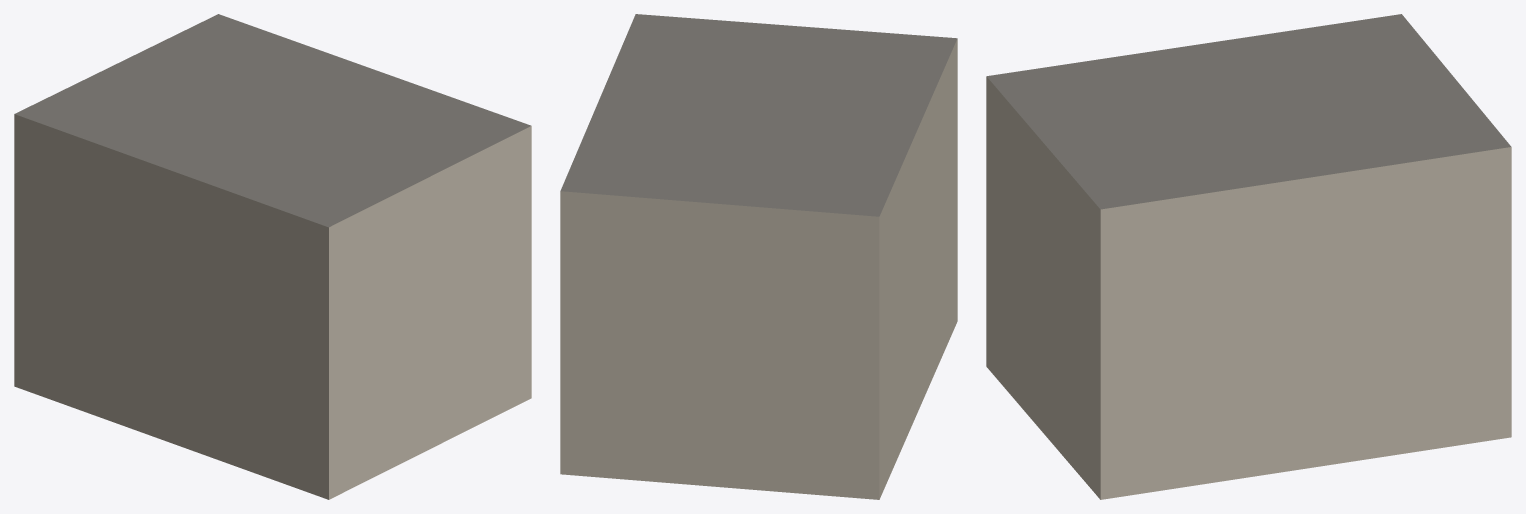
The picture shows the model from 3 angles, left to right: view 1: azimuth 30°, elevation 25°; view 2: azimuth 150°, elevation 25°; view 3: azimuth 270°, elevation 25°; orthographic projection. The views are drawn at different scales.
Visible parts, largest first — view 1: HP-w389701903; view 2: HP-w389701903; view 3: HP-w389701903.
Boxes of the visible parts, bbox=[...] form: HP-w389701903: bbox=[14, 14, 531, 499]; HP-w389701903: bbox=[560, 14, 957, 499]; HP-w389701903: bbox=[986, 14, 1511, 499].
Bounding box in the file's own units: 25.98 × 18 × 29.49.
